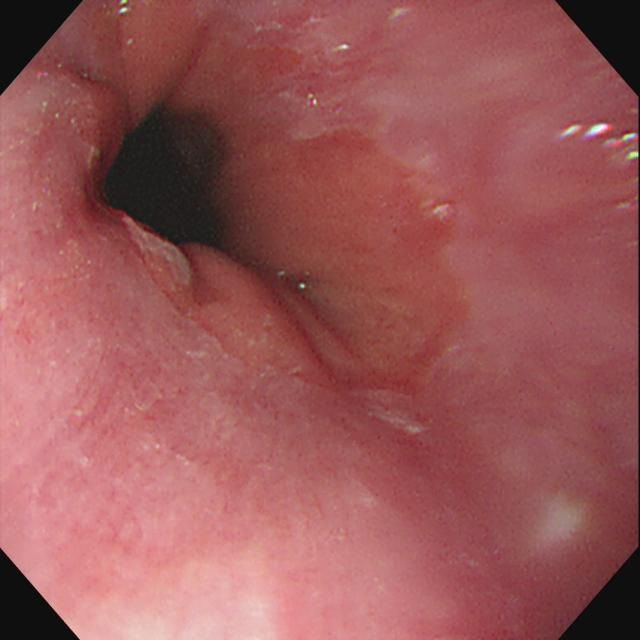E: (105, 110, 227, 247)
U: (562, 123, 640, 162)
